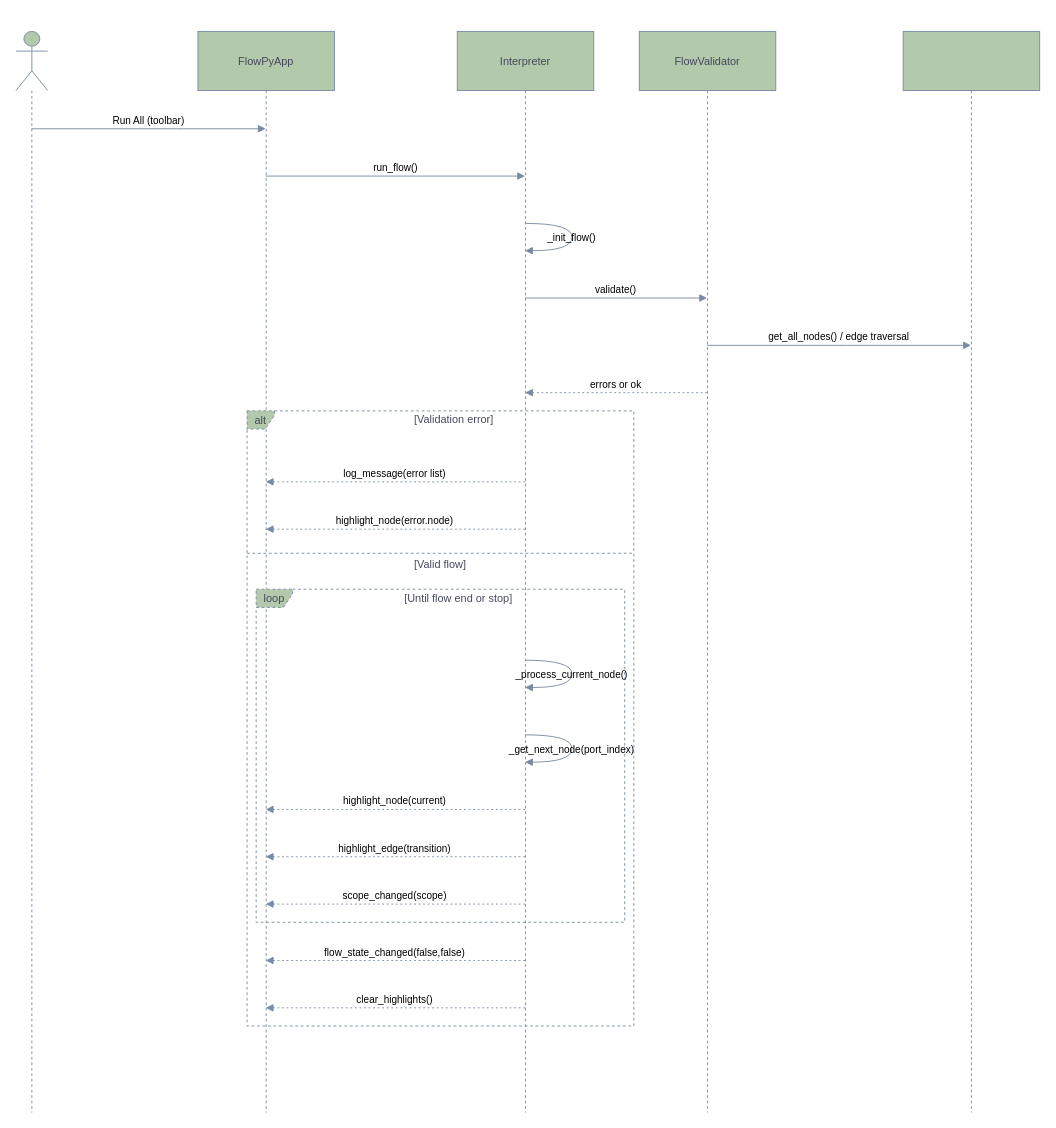
Some shapes in this 1056 by 1128 pixel diagram are drawn without their labels. The box of each missing label's shape, as (x1, y1, x2, y2) in pixels:
NodeRegistry: (902, 30, 1040, 1112)
User: (15, 30, 48, 1112)
